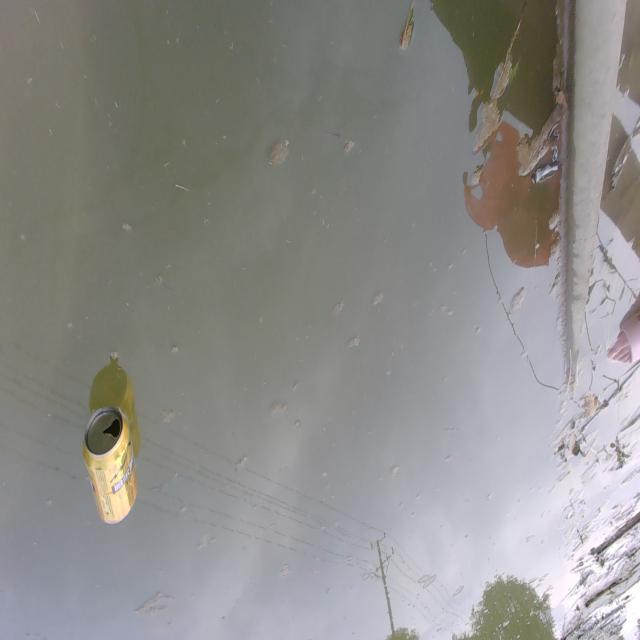garbage: (82, 404, 138, 524), (88, 350, 140, 458)
